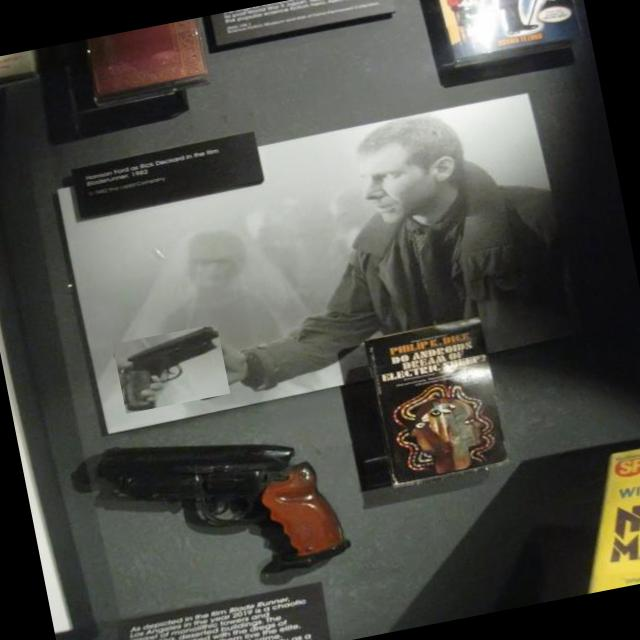Gun: (71, 444, 349, 571), (124, 327, 218, 412)
